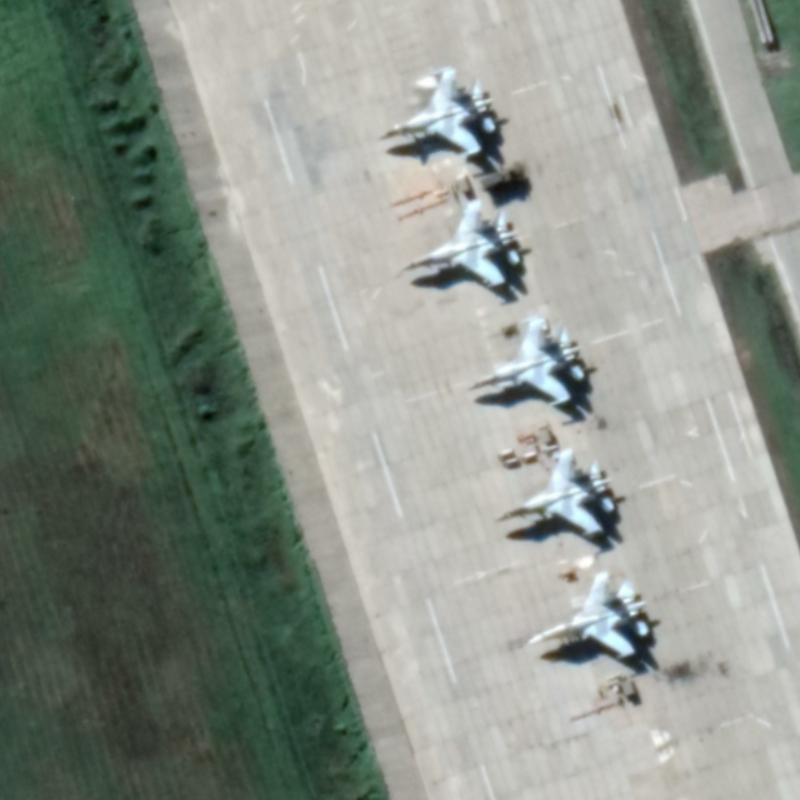A1: (373, 62, 500, 163), (462, 312, 588, 411), (490, 443, 617, 541), (398, 196, 524, 291), (524, 572, 653, 663)
